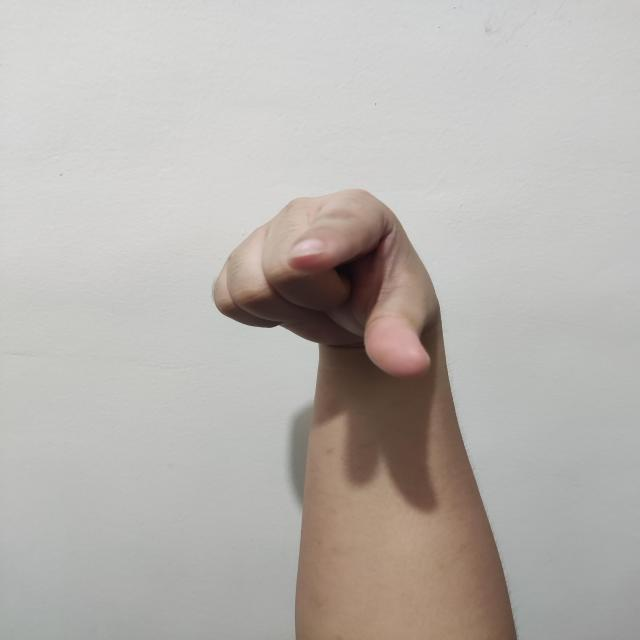Z: (214, 188, 440, 379)
